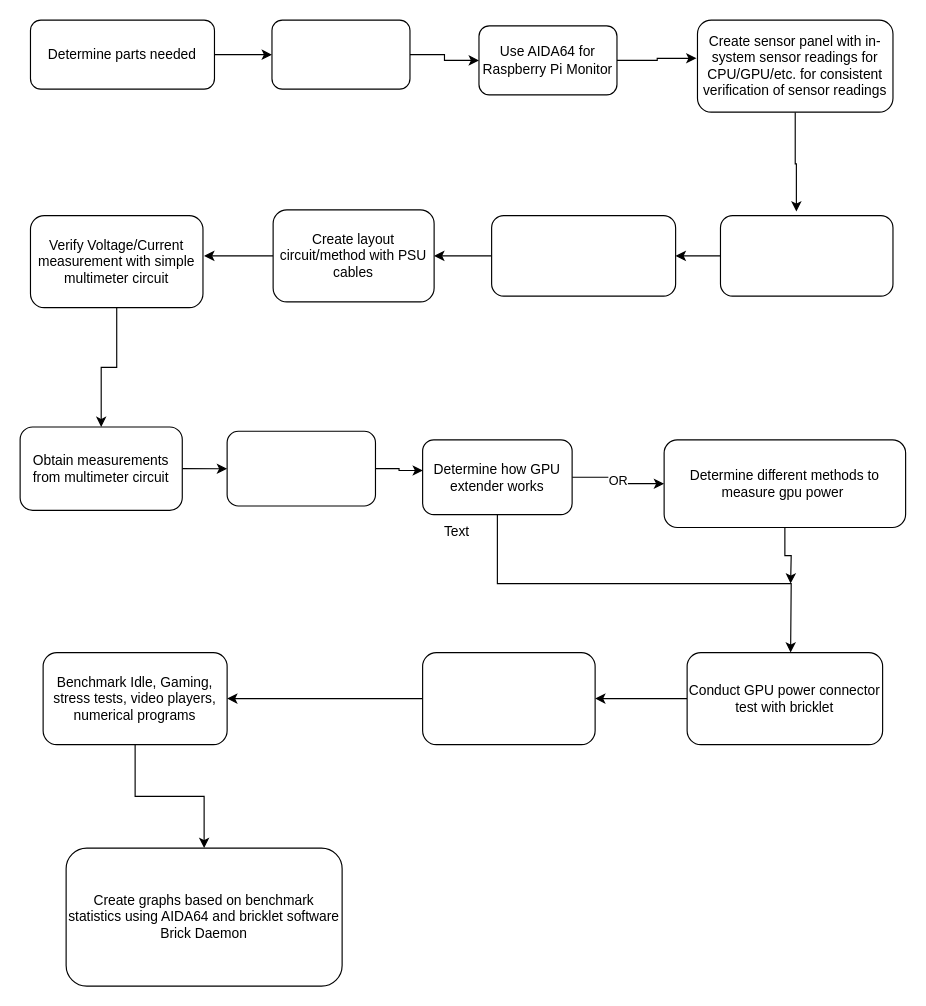
Some shapes in this 926 by 1006 pixel diagram are drawn without their labels. The shapes that lost their labels are listed below. From the top down, each one's centre as x and y in pixels, then its label:
the point at 340,54: Order parts
the point at 583,255: Determine how V/C bricklets work
the point at 806,255: Move to 2nd phase of project, physical circuit measurement
the point at 300,468: Conduct CPU power connector test with bricklet
the point at 508,698: Move to 3rd and last phase of project, benchmarking
